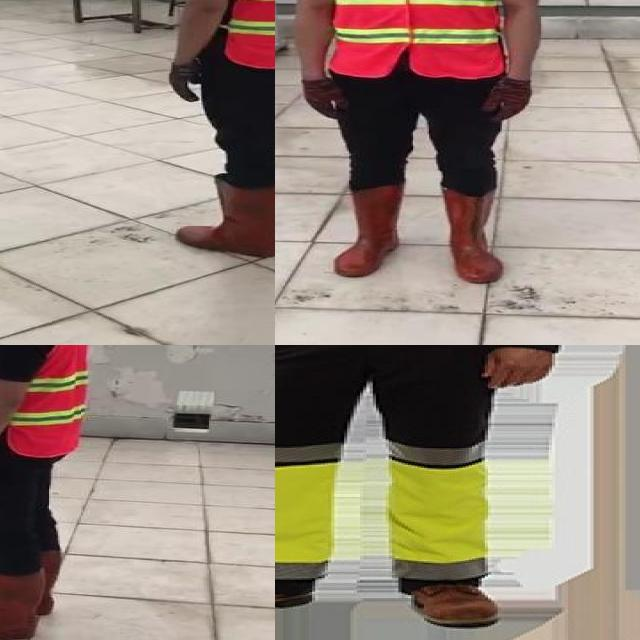boots: (379, 538, 516, 634), (175, 177, 275, 262), (438, 184, 505, 284), (335, 186, 406, 278), (275, 552, 338, 633), (0, 568, 45, 640), (36, 549, 59, 615)
hand_glove: (299, 80, 349, 121), (482, 82, 530, 122), (169, 61, 207, 104)
head_helmet: (275, 0, 549, 286)
person: (275, 345, 588, 636), (0, 345, 121, 640), (157, 0, 275, 258)
vest: (324, 0, 503, 78), (0, 345, 84, 458)
